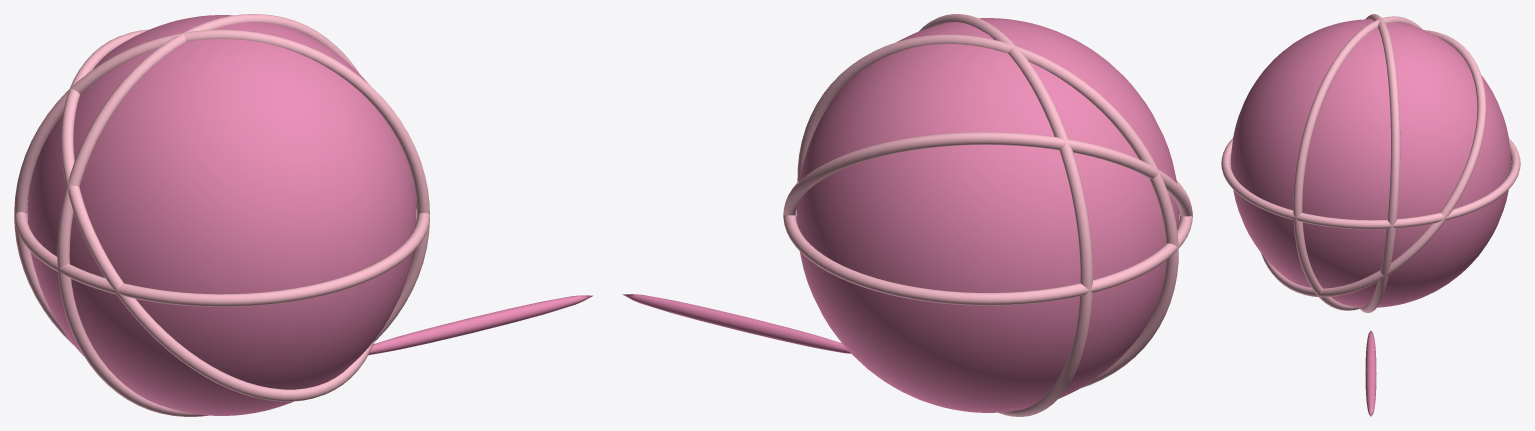
The model's file is yarn_ball.glb.
3 views of the same model, side by side, from view 1: azimuth 30°, elevation 25°; view 2: azimuth 150°, elevation 25°; view 3: azimuth 270°, elevation 25° (orthographic). The views are drawn at different scales.
Visible parts, largest first — view 1: yarn_ball; view 2: yarn_ball; view 3: yarn_ball.
Boxes of the visible parts, left/top/right/bottom form: yarn_ball: left=14, top=14, right=592, bottom=416; yarn_ball: left=622, top=14, right=1192, bottom=416; yarn_ball: left=1221, top=14, right=1520, bottom=416.
Bounding box in the file's own units: 0.7775 × 0.5072 × 0.5076.
